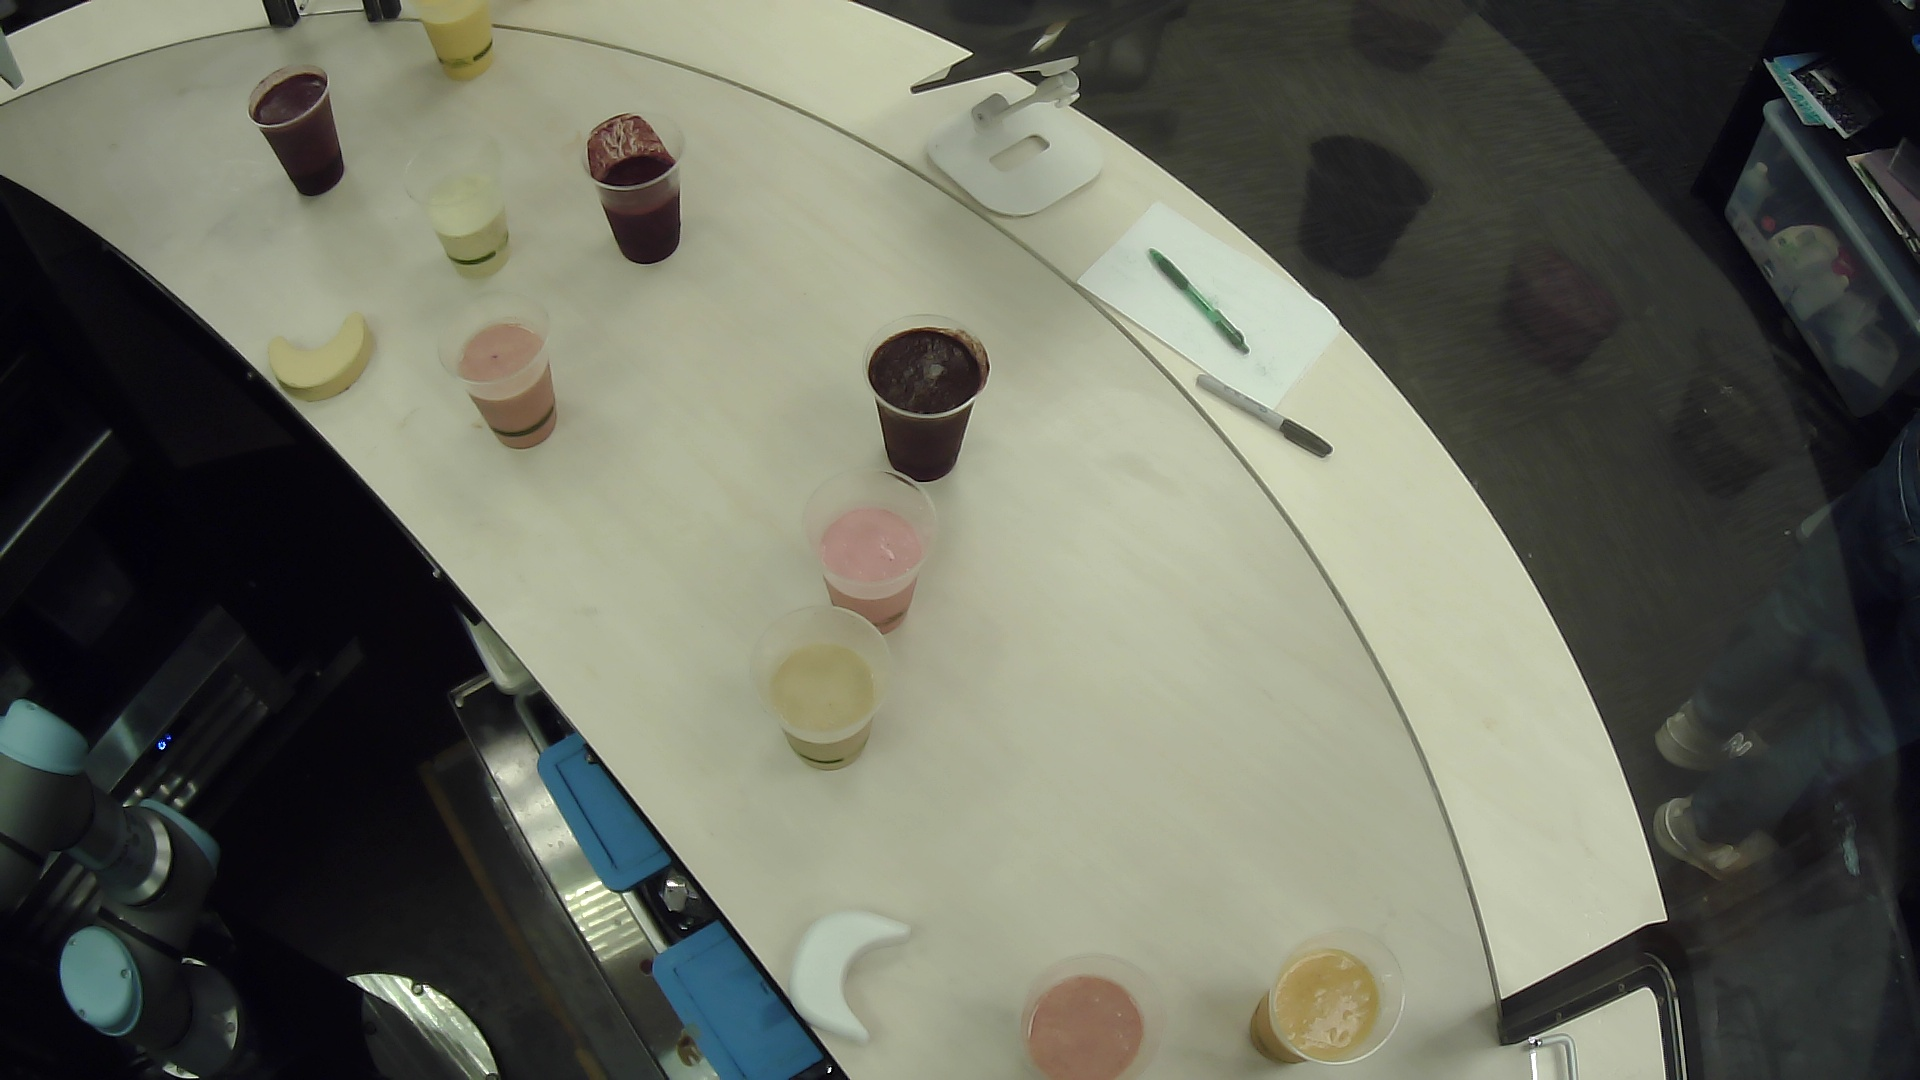Deliver: (760, 894, 930, 1056), (258, 294, 400, 429)
Full_cup: (1211, 909, 1433, 1079), (744, 584, 909, 793), (556, 86, 724, 272), (421, 284, 575, 477), (969, 944, 1185, 1080), (803, 456, 957, 640), (856, 306, 1006, 491), (225, 51, 371, 207), (398, 111, 520, 291), (411, 1, 517, 112)
